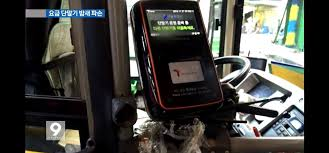terminal: (129, 1, 228, 123)
